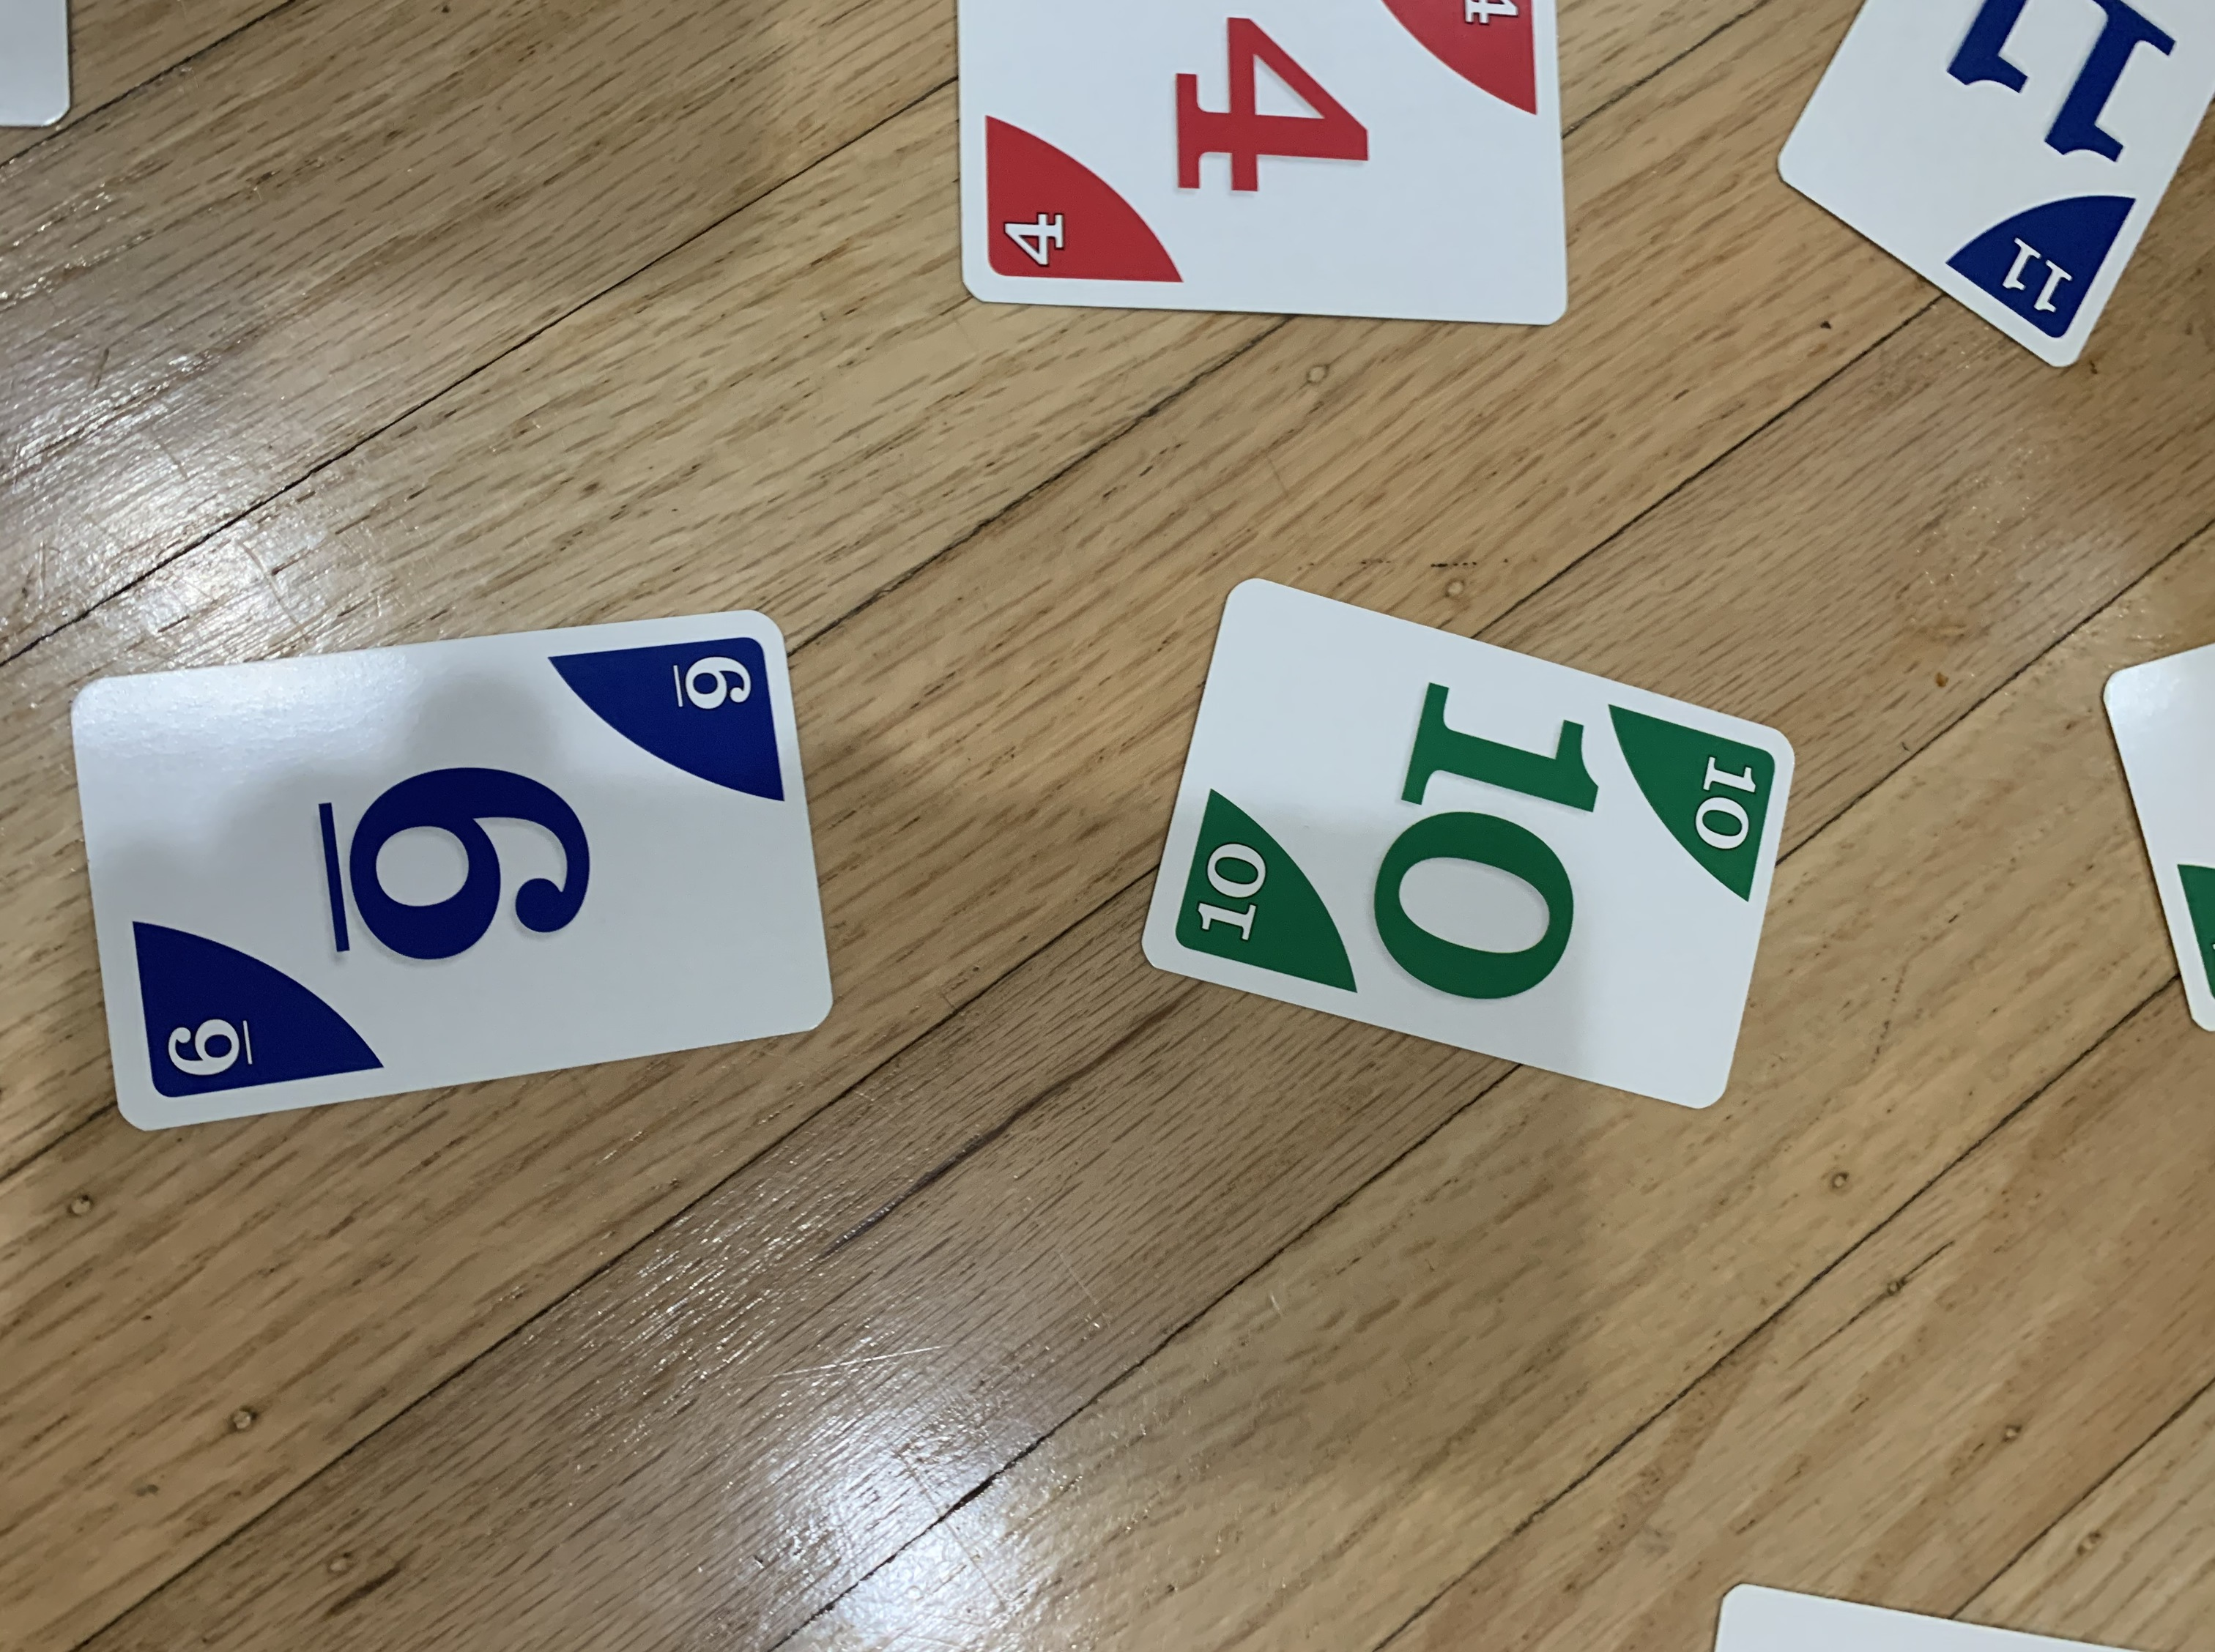six: (52, 607, 868, 1144)
ten: (1113, 560, 1800, 1124)
